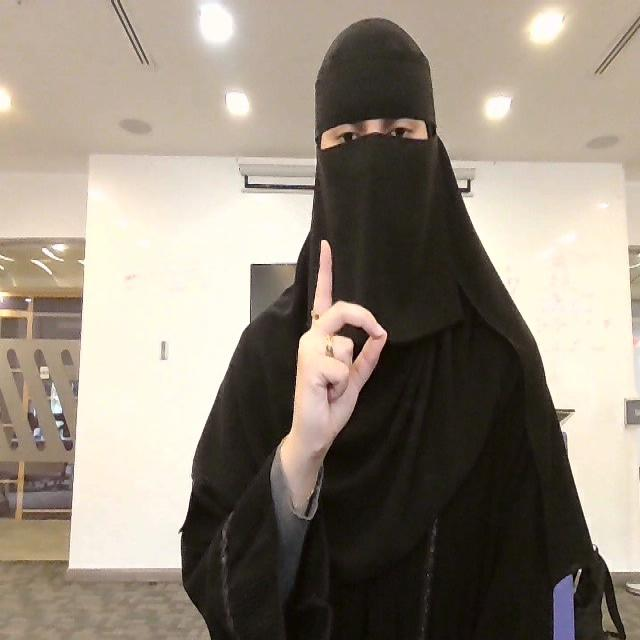emergency: (286, 237, 388, 463)
